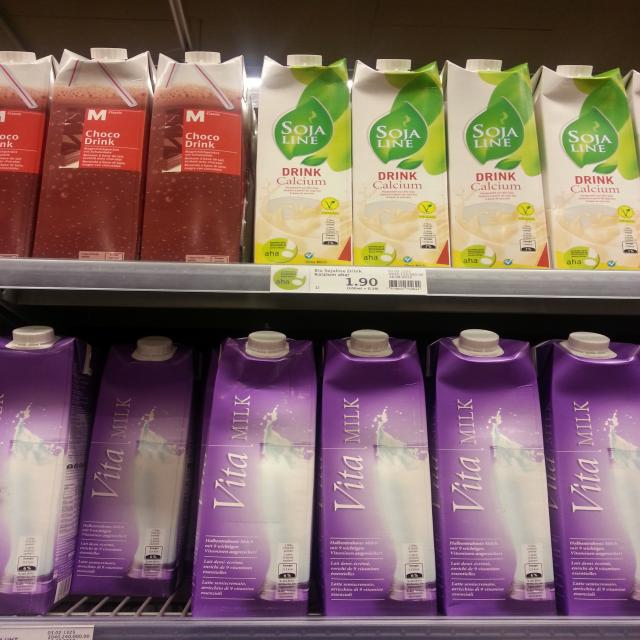Choco: (37, 47, 154, 261), (142, 50, 248, 264), (0, 51, 54, 261)
Milk: (190, 331, 320, 618), (433, 328, 562, 616), (318, 328, 439, 616), (76, 334, 205, 592), (534, 331, 640, 616), (0, 324, 82, 612), (533, 64, 640, 272), (448, 59, 552, 268), (257, 53, 357, 265), (356, 57, 451, 269)
